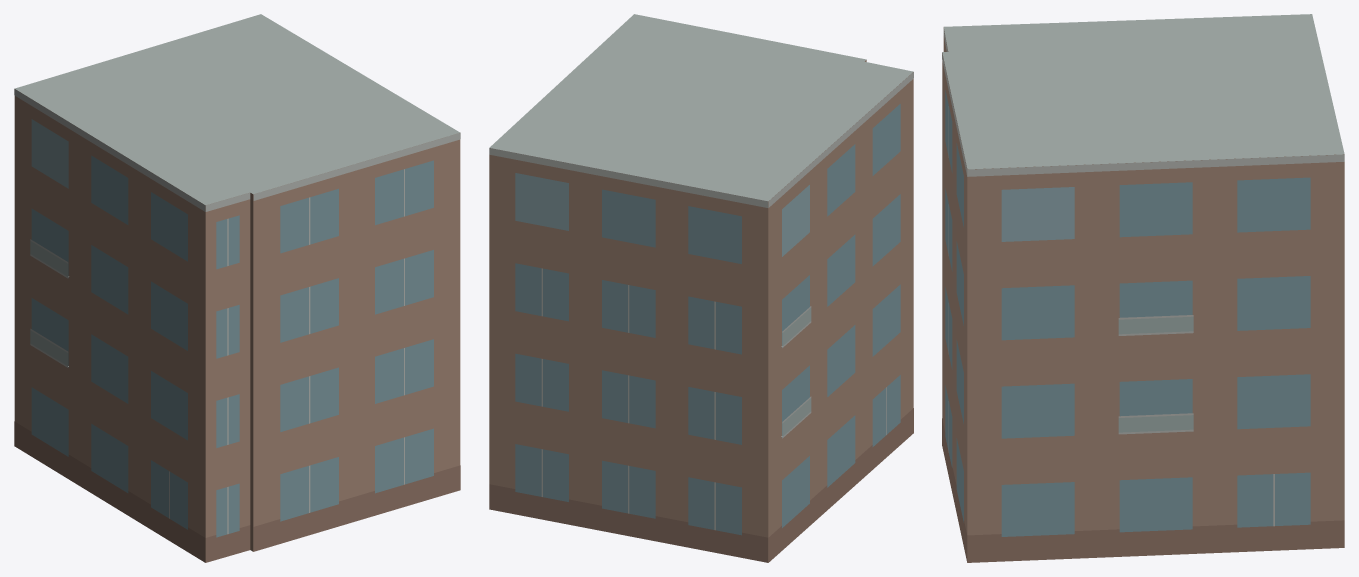
File: survey-upis-32665573.glb
The picture shows the model from 3 angles, left to right: view 1: azimuth 30°, elevation 25°; view 2: azimuth 150°, elevation 25°; view 3: azimuth 270°, elevation 25°; orthographic projection. The views are drawn at different scales.
Parts seen in each view (by area): view 1: survey-upis-32665573.tmp; view 2: survey-upis-32665573.tmp; view 3: survey-upis-32665573.tmp.
Boxes of the visible parts, bbox=[...] form: survey-upis-32665573.tmp: bbox=[14, 14, 460, 562]; survey-upis-32665573.tmp: bbox=[489, 14, 913, 562]; survey-upis-32665573.tmp: bbox=[942, 14, 1344, 562].
Size of the model in its own units: 10.94 by 12.9 by 11.97.
